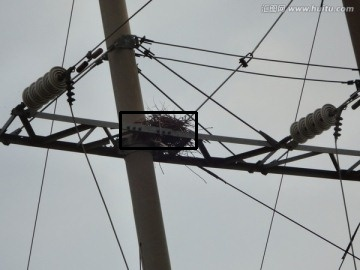bird-nest: (120, 112, 196, 148)
